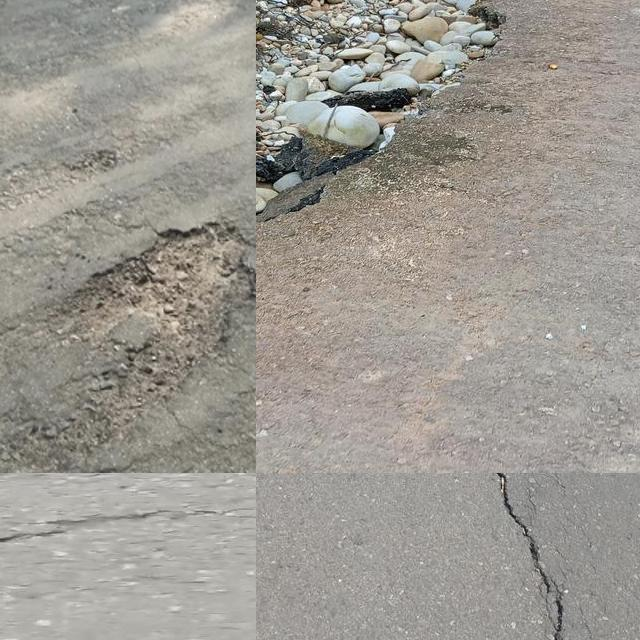Lubang: (61, 224, 256, 399)
Melintang: (0, 495, 183, 553)
Memanjang: (476, 473, 585, 640)
Pinggir: (256, 0, 537, 260)
